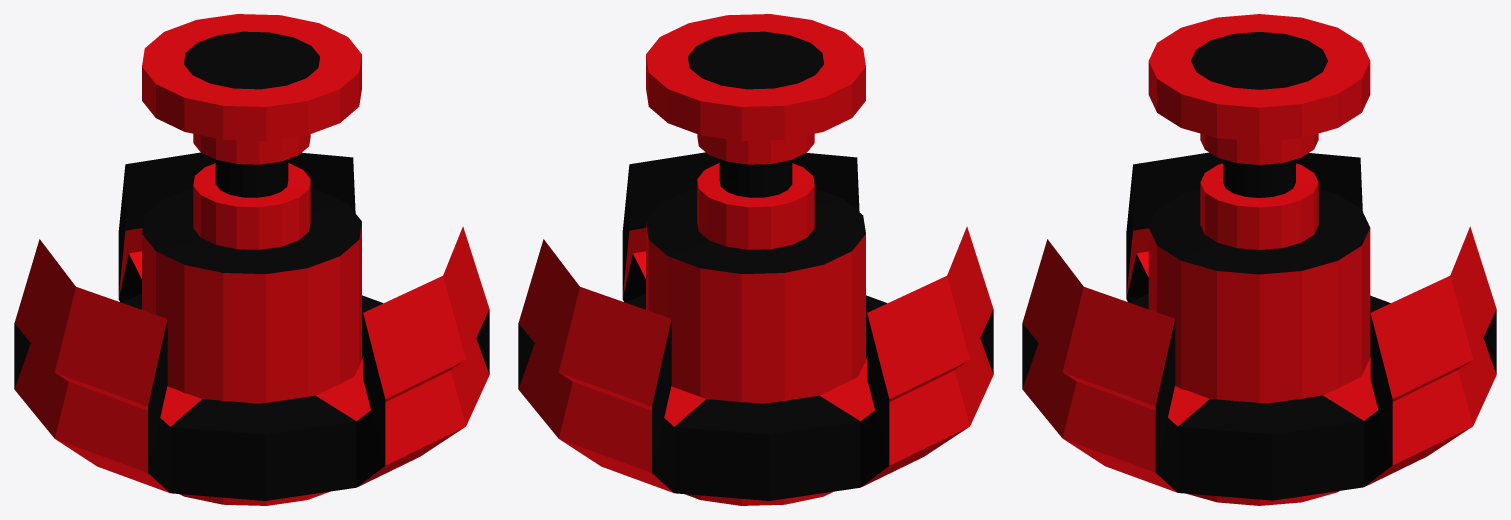
Rendered from Laser.fbx.
The picture shows the model from 3 angles, left to right: view 1: azimuth 30°, elevation 25°; view 2: azimuth 150°, elevation 25°; view 3: azimuth 270°, elevation 25°; orthographic projection.
Parts seen in each view (by area): view 1: Gear, Cylinder; view 2: Gear, Cylinder; view 3: Gear, Cylinder.
Part boxes in pixels (bbox=[...]): Gear: bbox=[14, 152, 489, 500]; Cylinder: bbox=[142, 14, 361, 505]; Gear: bbox=[518, 152, 993, 500]; Cylinder: bbox=[646, 14, 865, 505]; Gear: bbox=[1022, 152, 1496, 500]; Cylinder: bbox=[1148, 14, 1370, 505].
Bounding box in the file's own units: 1.71 × 1.67 × 1.8.
